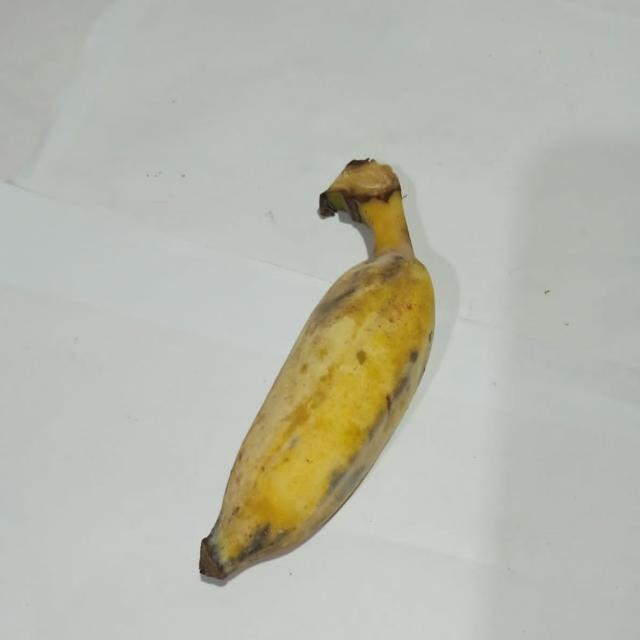banana: (200, 160, 434, 579)
